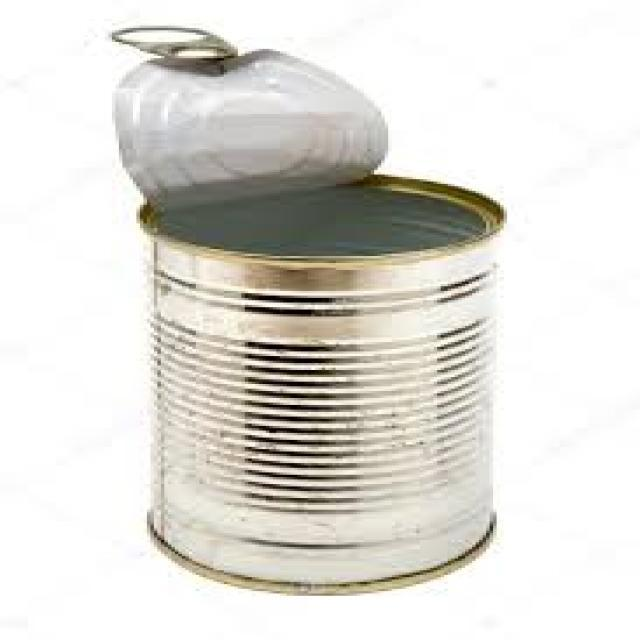metal-can: (102, 23, 500, 598)
